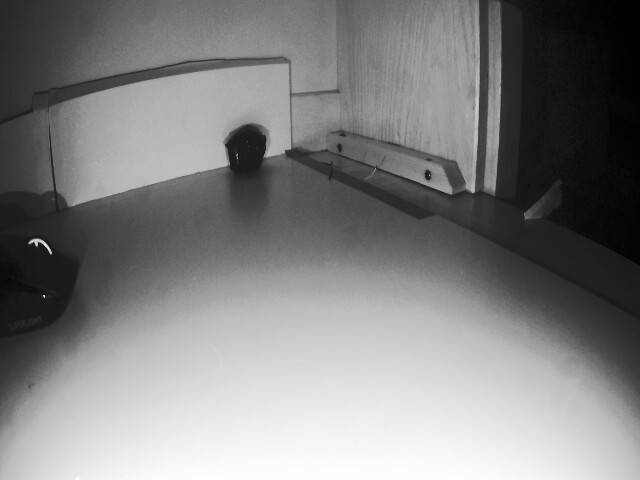silver: (224, 127, 278, 181)
